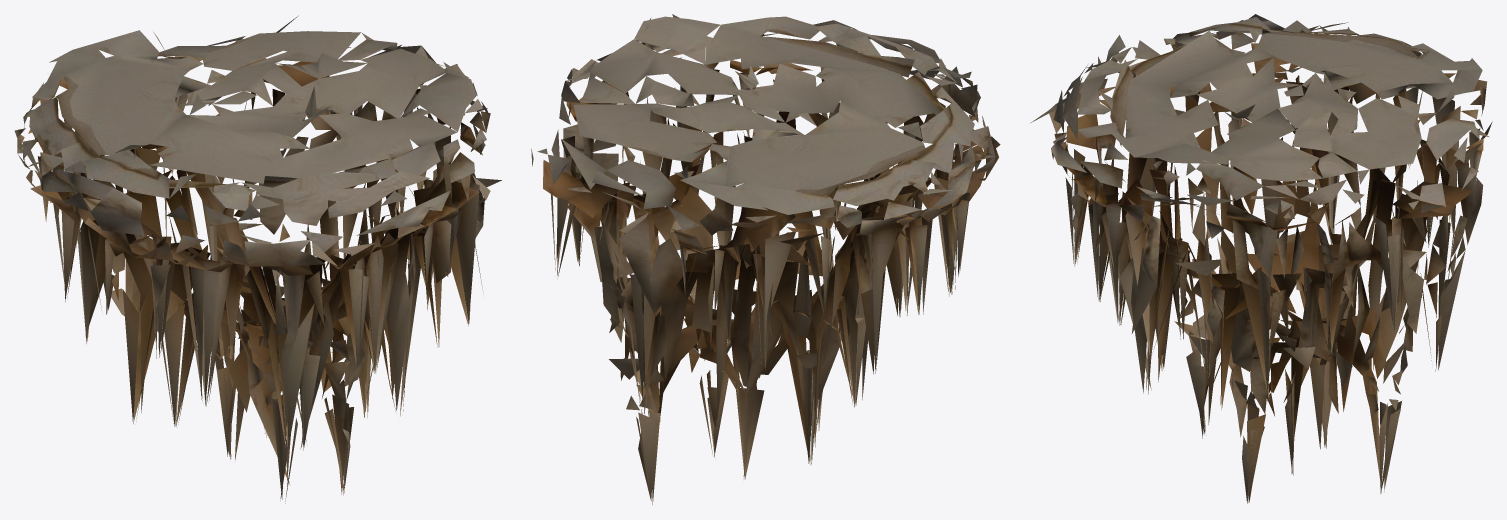
File: cav_stalactite_ceiling_cluster_LOD3.glb
3 renders of one model, left to right at view 1: azimuth 30°, elevation 25°; view 2: azimuth 150°, elevation 25°; view 3: azimuth 270°, elevation 25°, orthographic. The views are drawn at different scales.
Visible parts, largest first — view 1: tripo_node_cf9095d3-c141-4859-948e-a06c82a533c3; view 2: tripo_node_cf9095d3-c141-4859-948e-a06c82a533c3; view 3: tripo_node_cf9095d3-c141-4859-948e-a06c82a533c3.
Part boxes in pixels (bbox=[...]): tripo_node_cf9095d3-c141-4859-948e-a06c82a533c3: bbox=[14, 15, 501, 503]; tripo_node_cf9095d3-c141-4859-948e-a06c82a533c3: bbox=[531, 14, 1000, 504]; tripo_node_cf9095d3-c141-4859-948e-a06c82a533c3: bbox=[1031, 14, 1492, 503].
Size of the model in its own units: 0.9941 by 0.9426 by 1.01.
1 material, 1 textured.
